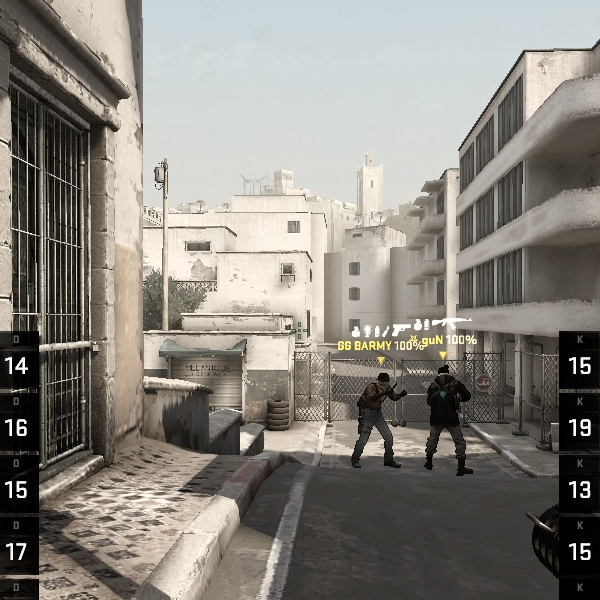t_body: (412, 361, 477, 475), (347, 367, 408, 472)
